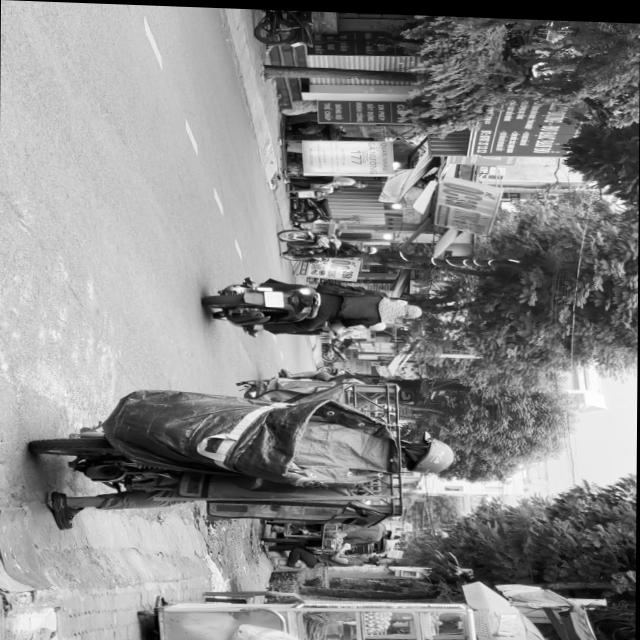helmet: (398, 432, 456, 472)
licenseplate: (25, 364, 464, 543), (205, 271, 425, 339)
motorcyclist: (380, 293, 424, 321)
nohelmet: (265, 289, 284, 305)
